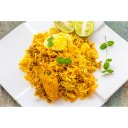briyani: (32, 32, 97, 100)
